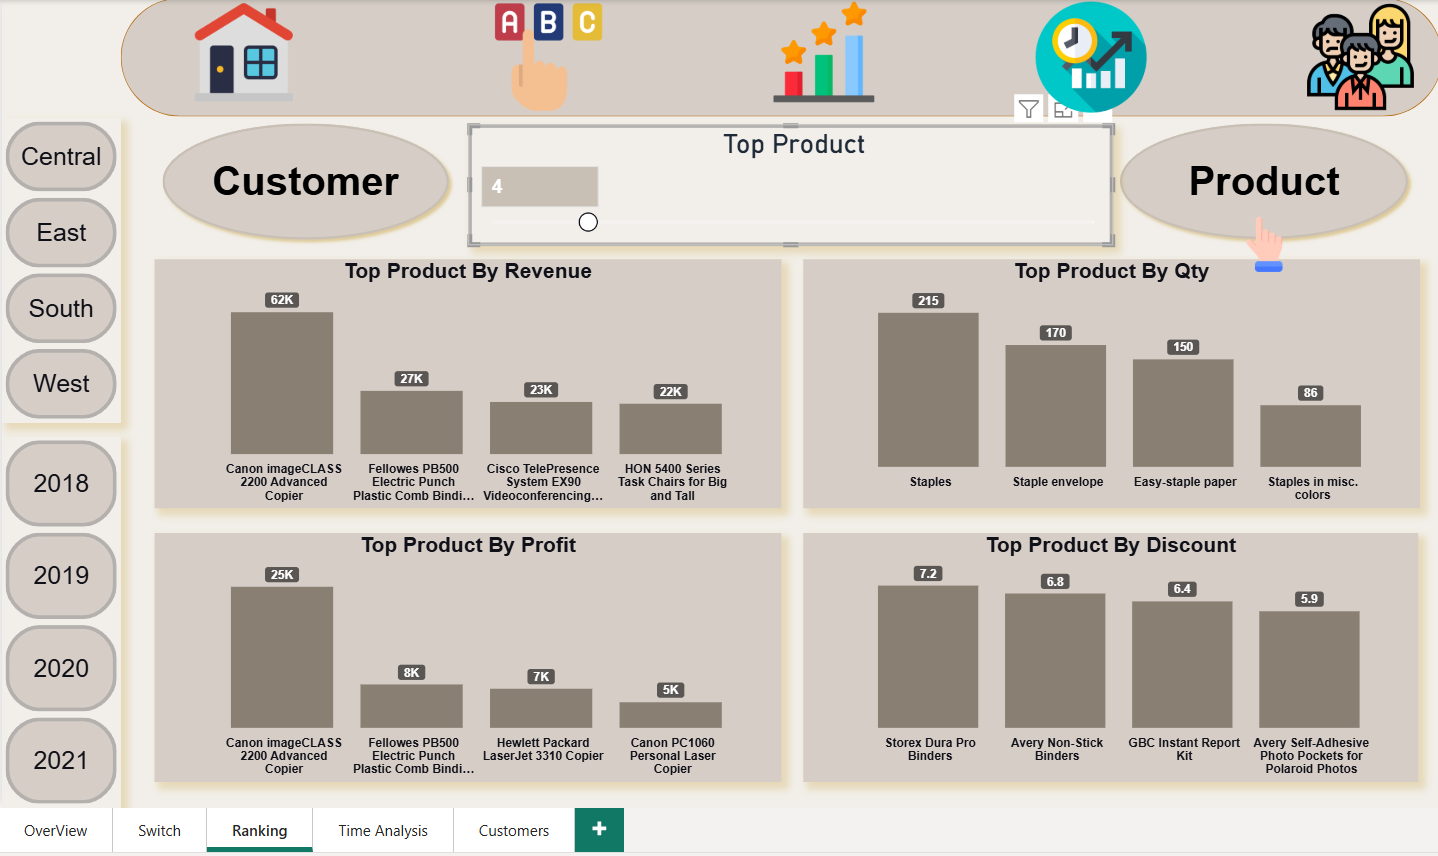

The page's visual inventory and layout, read from the dashboard file:
{"tool":"powerbi","page":{"name":"Ranking","canvas":[1920,1080],"ordinal":2},"visuals":[{"type":"shape","box":[158,0,1762,158],"z":0},{"type":"actionButton","title":"Button_Customer","box":[204.6,157.7,399.8,172.7],"z":2000},{"type":"actionButton","title":"Button_Product","box":[1482,158,402,172],"z":3000},{"type":"slicer","title":"Top Customer","fields":{"Values":["Customer_Parameter.Customer_Parameter"]},"box":[604,172,878,158],"z":8000},{"type":"clusteredColumnChart","title":"Top Customer By Revenue","fields":{"Y":["Dax.Ranking _Customer_Rev"],"Category":["Dim_Customer.Customer Name"]},"box":[204,348,788,332],"z":9000},{"type":"clusteredColumnChart","title":"Top Customer By Profit","fields":{"Category":["Dim_Customer.Customer Name"],"Y":["Dax.Ranking _Customer_profit"]},"box":[204,714,788,332],"z":10000},{"type":"clusteredColumnChart","title":"Top Customer By Qty","fields":{"Y":["Dax.Ranking _Customer_qty"],"Category":["Dim_Customer.Customer Name"]},"box":[1016,348,874,332],"z":11000},{"type":"clusteredColumnChart","title":"Top Customer By Discount","fields":{"Category":["Dim_Customer.Customer Name"],"Y":["Dax.Ranking _Customer_discount"]},"box":[1016,714,874,332],"z":12000},{"type":"image","title":"Image_profit_Customer","box":[335,243.3,100,170],"z":13000},{"type":"image","box":[230.7,0,184.2,144.8],"z":15000},{"type":"image","box":[650,0,158,158],"z":16000},{"type":"image","box":[1734,0,156,158],"z":17000},{"type":"image","box":[1016,0,158,144],"z":18000},{"type":"image","box":[1374,0,158,158],"z":19000},{"type":"advancedSlicerVisual","fields":{"Values":["Dim_Customer.Region"]},"box":[0,160,158.3,406.7],"z":20000},{"type":"advancedSlicerVisual","fields":{"Values":["Calendar_Table.Year"]},"box":[0,585.7,158.6,494.3],"z":21000}]}

Visuals, with their boxes on the page's 1920x1080 design canvas (x1, y1, x2, y2). These are canvas units, not pixel positions in the 1438x856 screenshot, which may show the page scaled, cropped or inside an application window:
shape: BBox(158, 0, 1920, 158)
"Button_Customer" actionButton: BBox(205, 158, 604, 330)
"Button_Product" actionButton: BBox(1482, 158, 1884, 330)
"Top Customer" slicer: BBox(604, 172, 1482, 330)
"Top Customer By Revenue" clusteredColumnChart: BBox(204, 348, 992, 680)
"Top Customer By Profit" clusteredColumnChart: BBox(204, 714, 992, 1046)
"Top Customer By Qty" clusteredColumnChart: BBox(1016, 348, 1890, 680)
"Top Customer By Discount" clusteredColumnChart: BBox(1016, 714, 1890, 1046)
"Image_profit_Customer" image: BBox(335, 243, 435, 413)
image: BBox(231, 0, 415, 145)
image: BBox(650, 0, 808, 158)
image: BBox(1734, 0, 1890, 158)
image: BBox(1016, 0, 1174, 144)
image: BBox(1374, 0, 1532, 158)
advancedSlicerVisual - Dim_Customer.Region: BBox(0, 160, 158, 567)
advancedSlicerVisual - Calendar_Table.Year: BBox(0, 586, 159, 1080)
